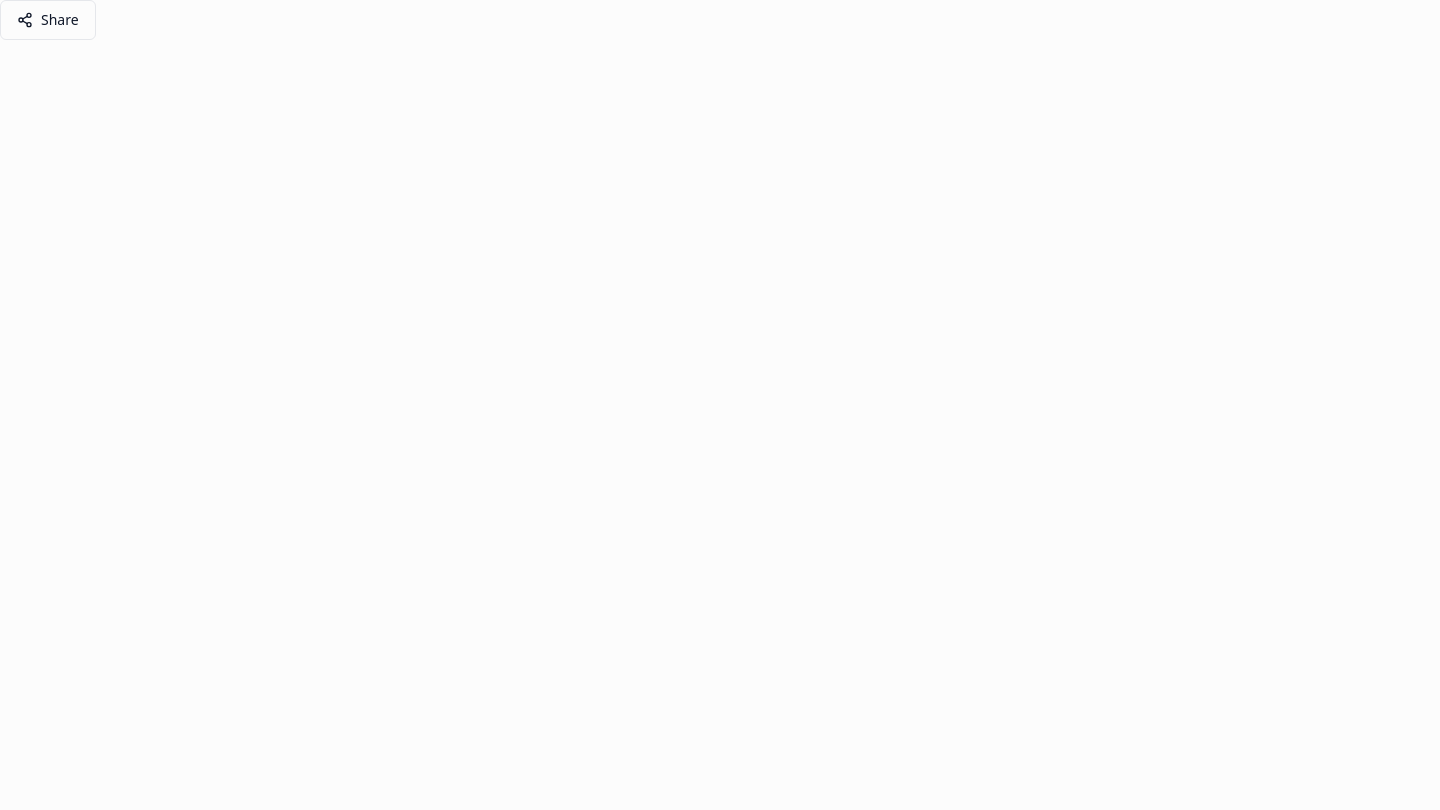
it: ShareCompanyDialog › removes a grant only after the server confirms revocation
Click the button "Share" at point(48, 20), box [0,0,96,40]
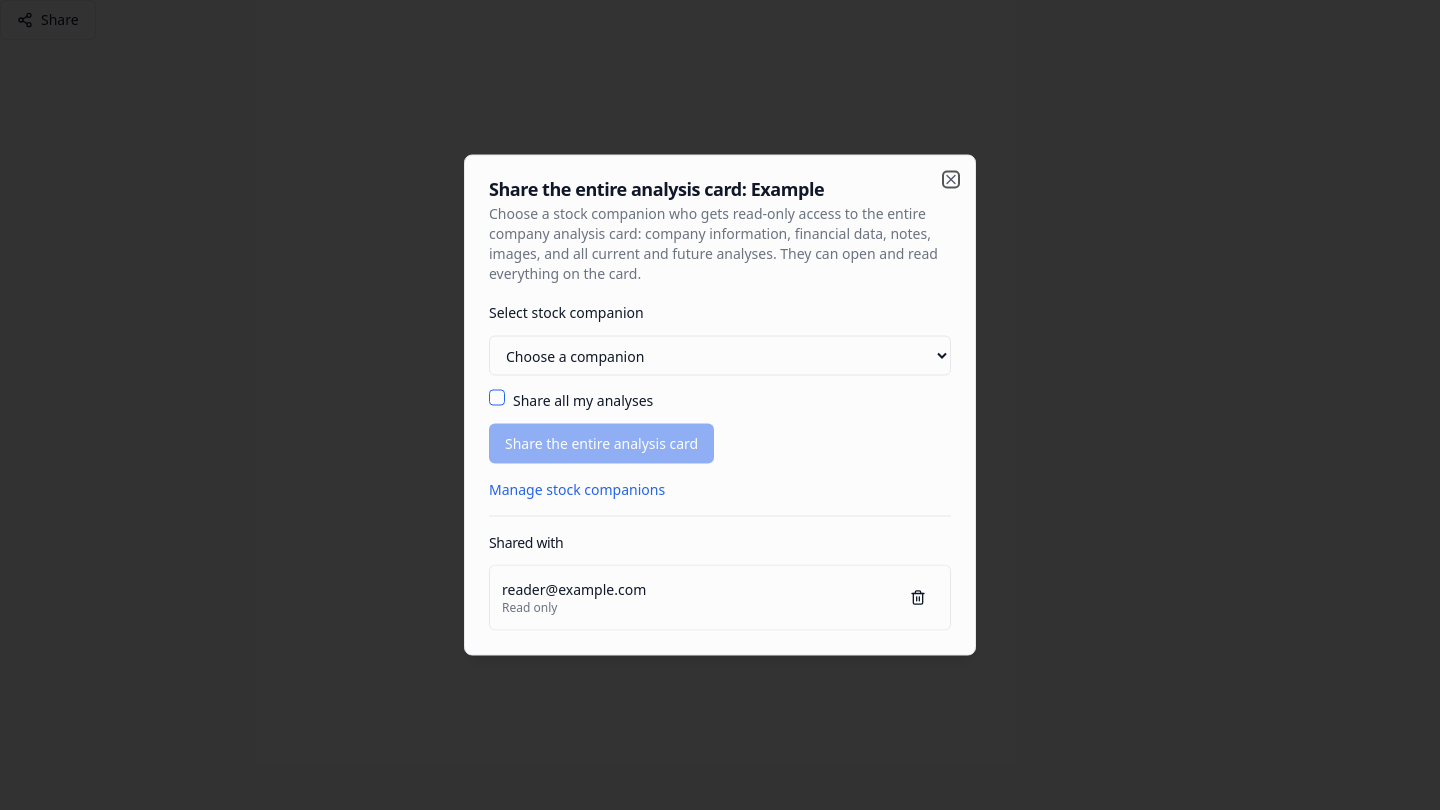
Click the button named "Remove access: reader@example.com" at point(918, 598), box [898,578,938,618]
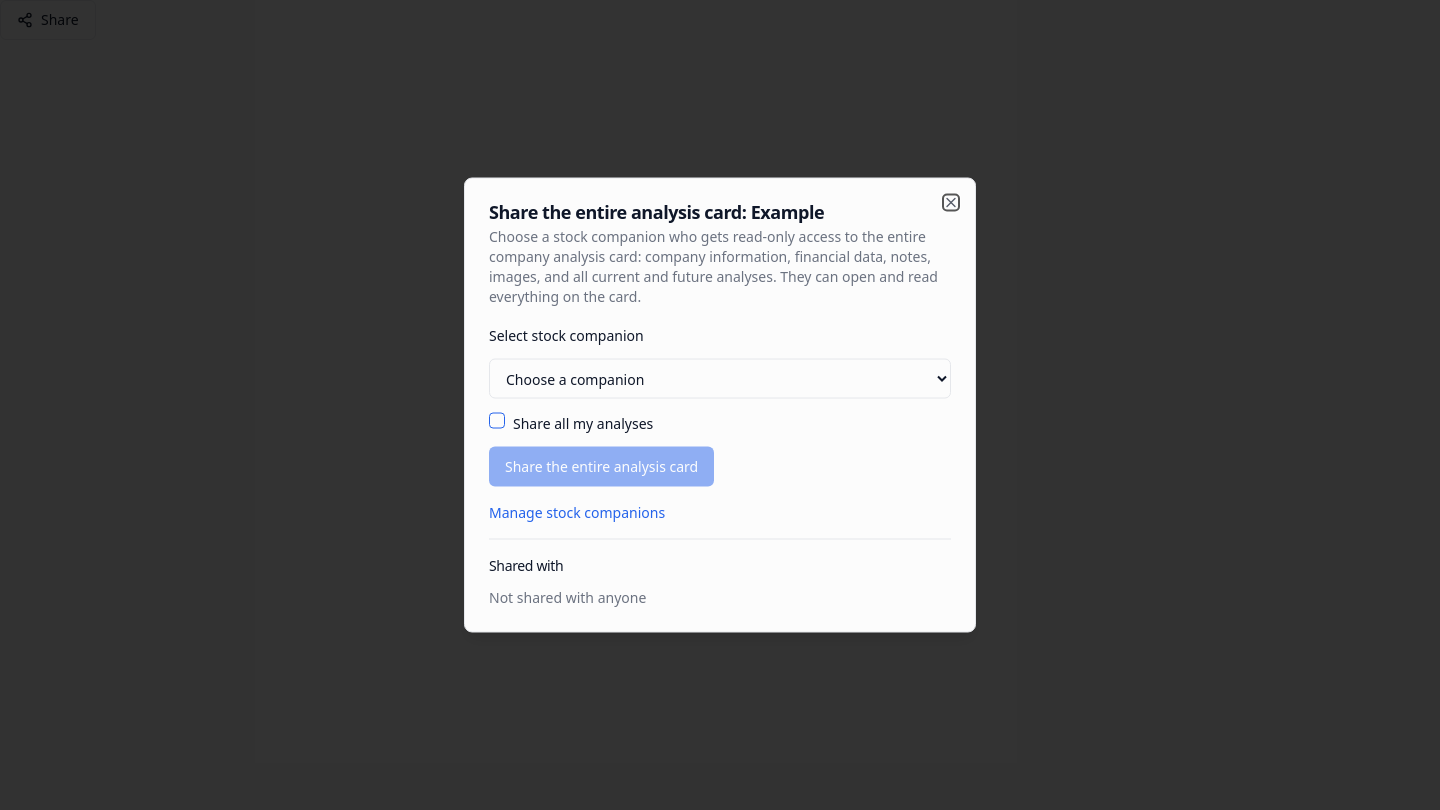
Now the text "Not shared with anyone" is shown, box [489,588,646,606]
